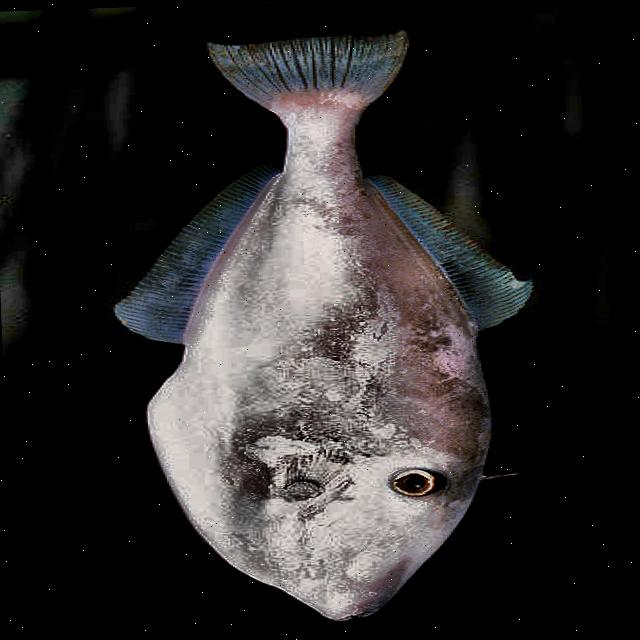fish: (100, 22, 548, 630)
